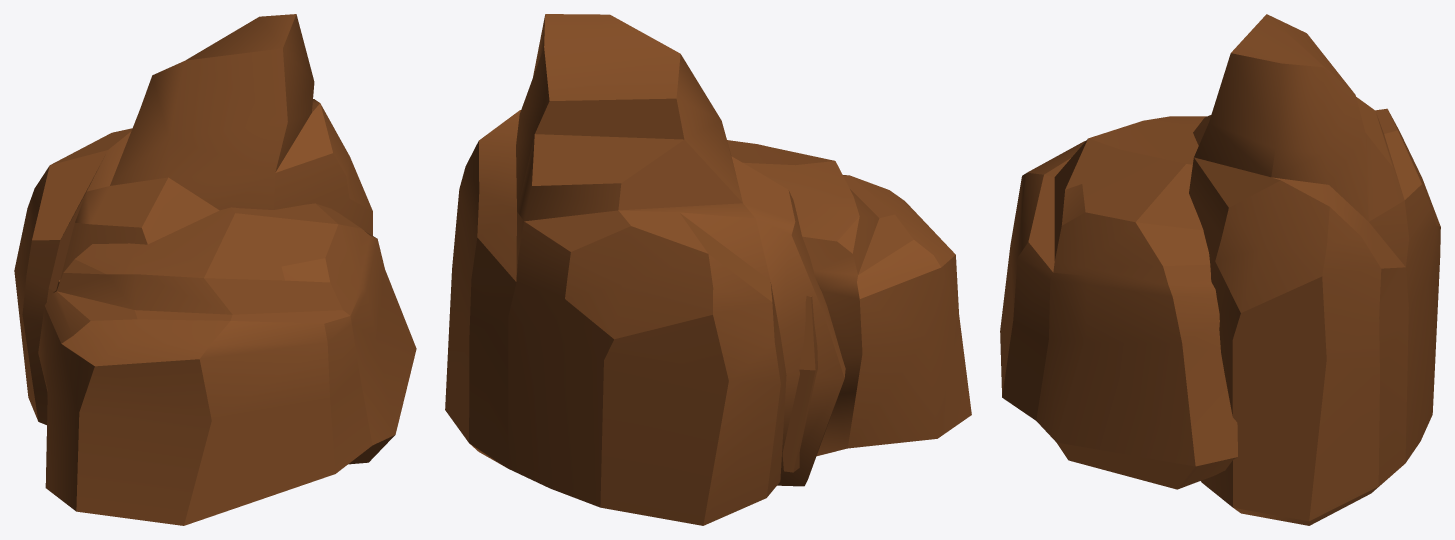
The model's file is Rock Large-li0YBlBEMz.glb.
3 views of the same model, side by side, from view 1: azimuth 30°, elevation 25°; view 2: azimuth 150°, elevation 25°; view 3: azimuth 270°, elevation 25° (orthographic). The views are drawn at different scales.
Parts seen in each view (by area): view 1: Rock_Large_2; view 2: Rock_Large_2; view 3: Rock_Large_2.
Part boxes in pixels (box(x1,y1,x2,y2)): Rock_Large_2: box(14, 14, 416, 525); Rock_Large_2: box(445, 14, 971, 525); Rock_Large_2: box(1000, 14, 1440, 525).
Size of the model in its own units: 8.54 by 8.21 by 7.62.
1 material, 1 textured.
